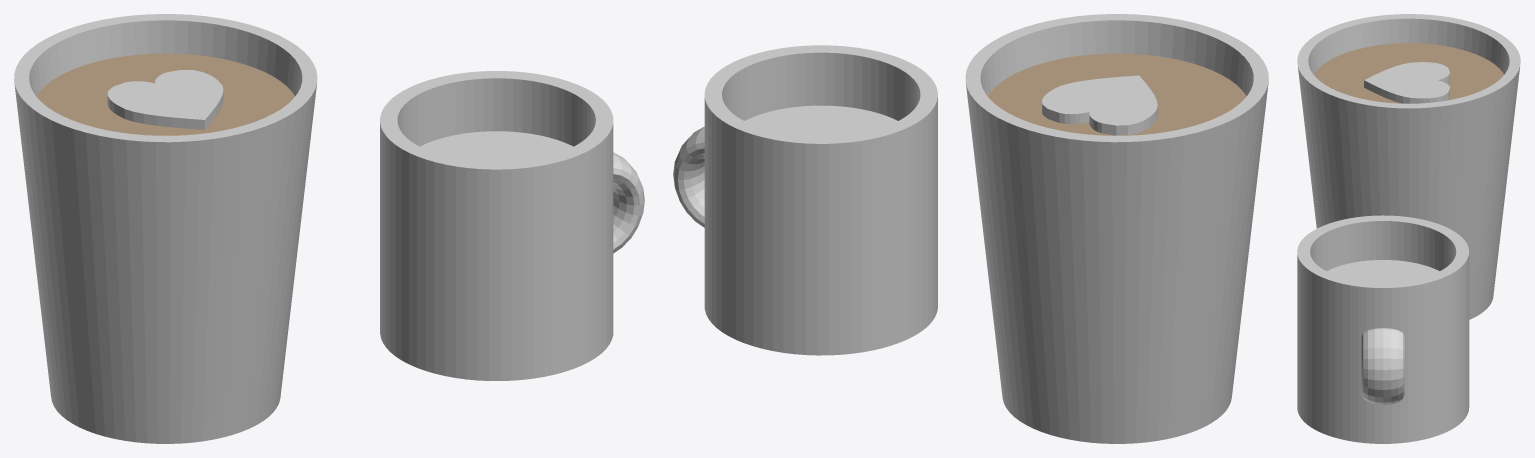
The model's file is asset.glb.
3 renders of one model, left to right at view 1: azimuth 30°, elevation 25°; view 2: azimuth 150°, elevation 25°; view 3: azimuth 270°, elevation 25°, orthographic. The views are drawn at different scales.
Parts seen in each view (by area): view 1: Mesh_Mesh_head_geo.001_lambert2SG.001; view 2: Mesh_Mesh_head_geo.001_lambert2SG.001; view 3: Mesh_Mesh_head_geo.001_lambert2SG.001.
Boxes of the visible parts, x1,y1,x2,y2 form: Mesh_Mesh_head_geo.001_lambert2SG.001: [14, 14, 644, 443]; Mesh_Mesh_head_geo.001_lambert2SG.001: [673, 14, 1268, 443]; Mesh_Mesh_head_geo.001_lambert2SG.001: [1297, 14, 1520, 443].
Size of the model in its own units: 58 by 30 by 26.
